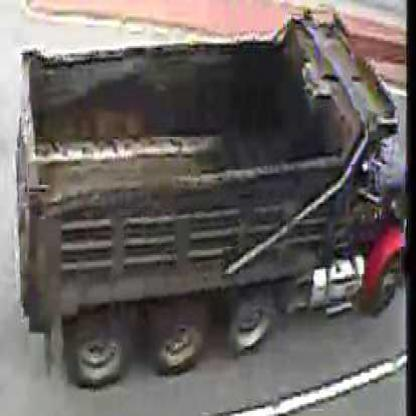truck: (10, 18, 409, 390)
